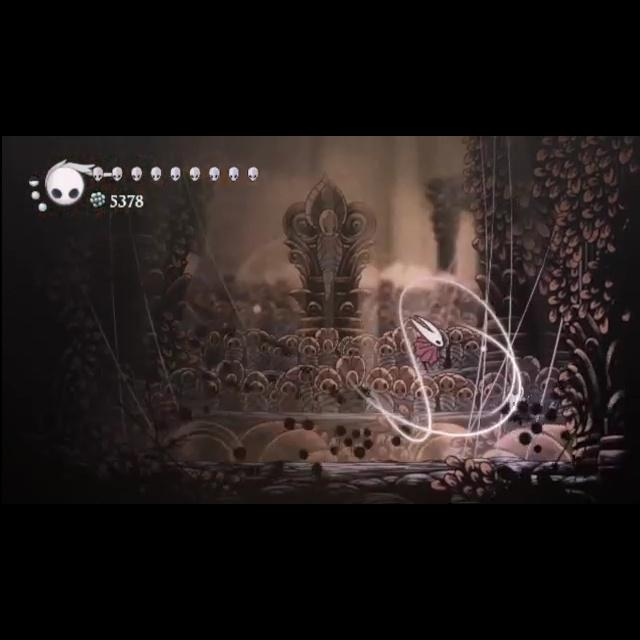EnemyAirAttack: (400, 308, 460, 378)
Player: (504, 385, 534, 431)
